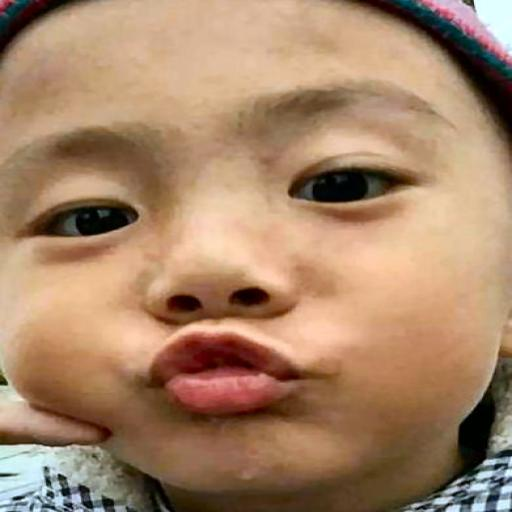Autism: (10, 9, 512, 512)
